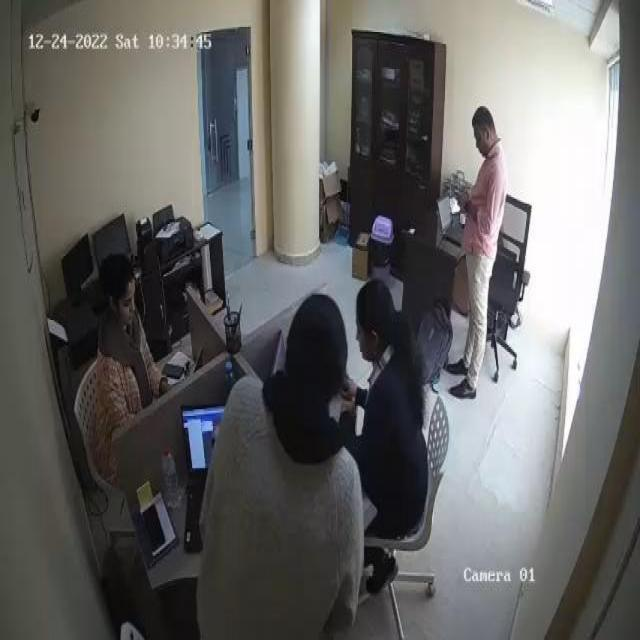bare_hand: (449, 184, 473, 221)
